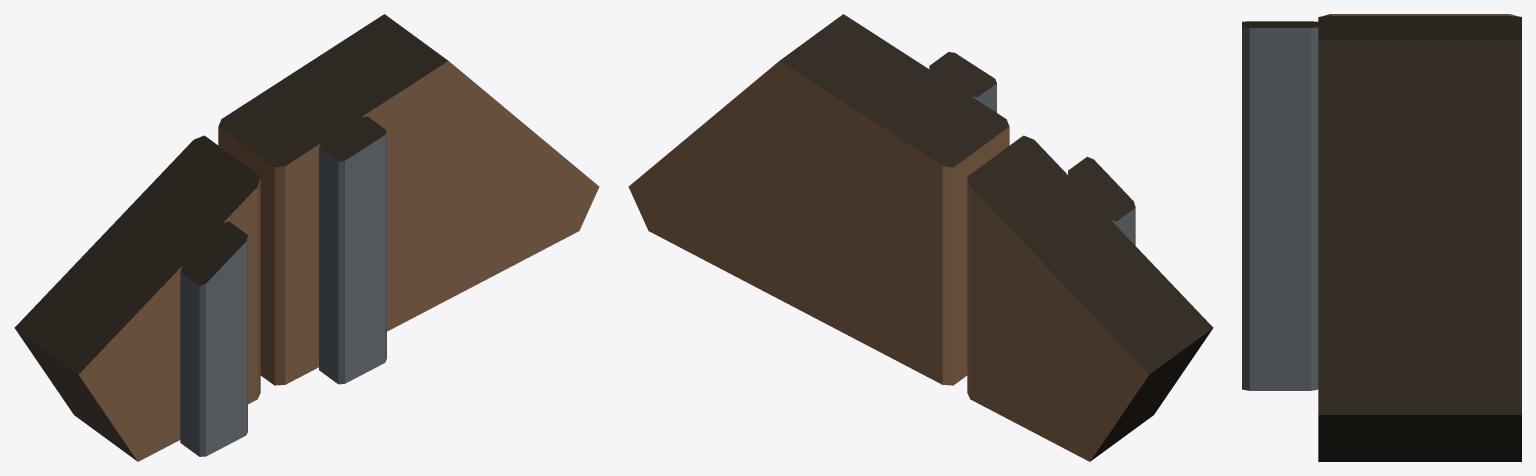
The model's file is SM_DoorShard_03_21.fbx.
3 renders of one model, left to right at view 1: azimuth 30°, elevation 25°; view 2: azimuth 150°, elevation 25°; view 3: azimuth 270°, elevation 25°, orthographic. The views are drawn at different scales.
Visible parts, largest first — view 1: SM_DoorShard_03_21; view 2: SM_DoorShard_03_21; view 3: SM_DoorShard_03_21.
Part boxes in pixels (left/top/right/bottom): SM_DoorShard_03_21: left=14, top=14, right=599, bottom=461; SM_DoorShard_03_21: left=628, top=14, right=1213, bottom=461; SM_DoorShard_03_21: left=1242, top=14, right=1521, bottom=461.
Size of the model in its own units: 75.11 by 22 by 44.82.
